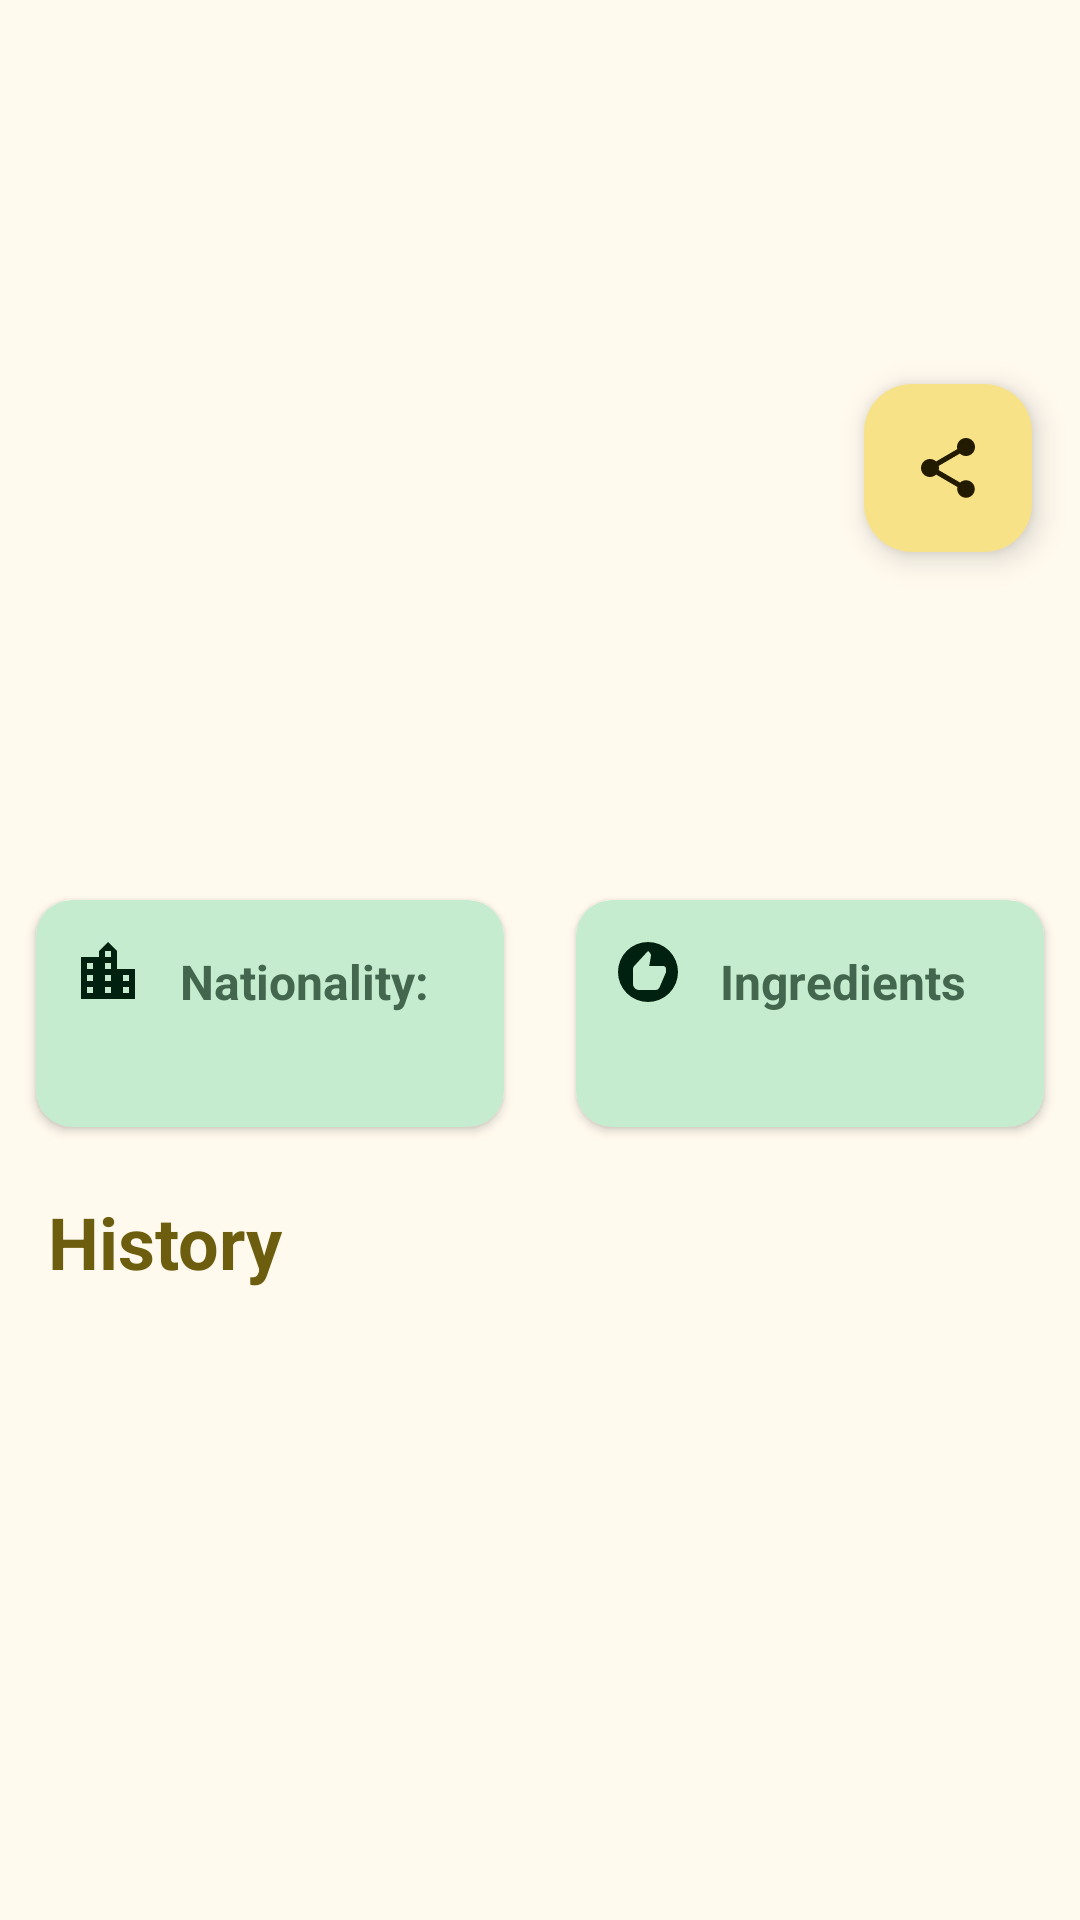

Where to tap for icons on this 1080 x 1920 app screen, as (x,y):
location city: (108,970)
recommend: (648,972)
Share this gastronomy: (948,468)
